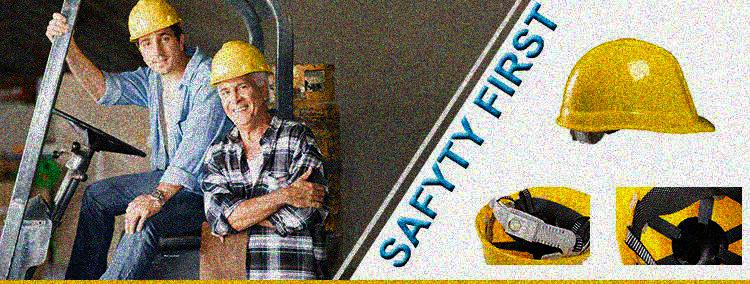helmet: (210, 38, 274, 127), (128, 1, 184, 76)
